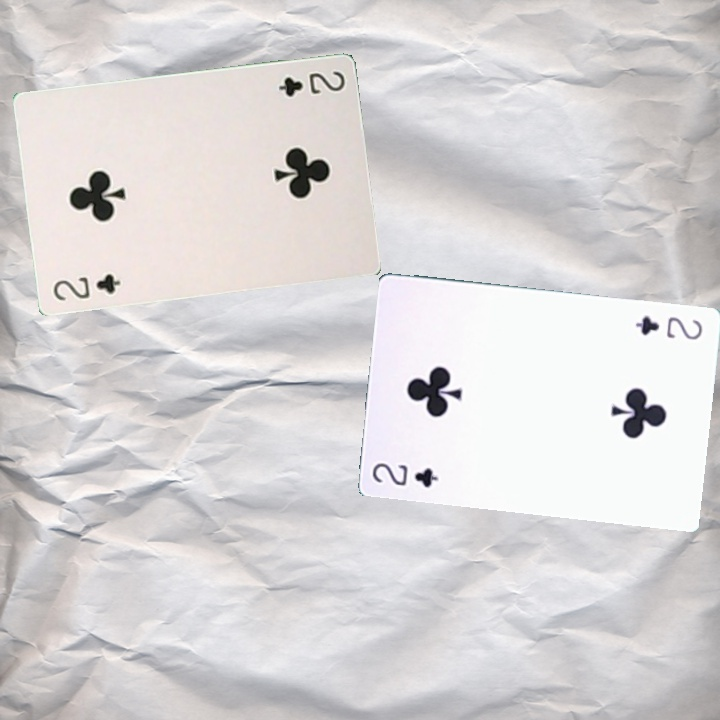2c: (274, 66, 348, 100), (49, 270, 123, 303), (368, 458, 441, 490), (631, 312, 705, 343)
